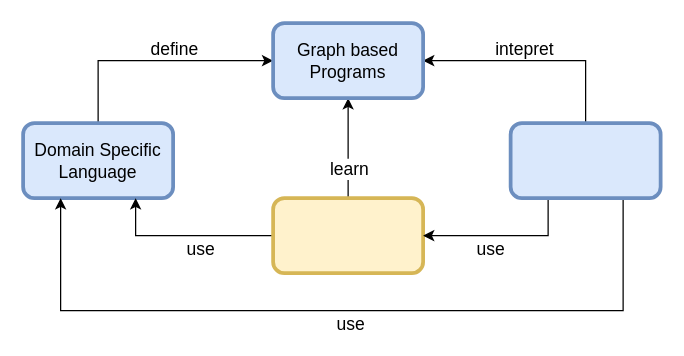
Some shapes in this 684 by 356 pixel diagram are drawn without their labels. Here are the shapes that lost their labels. From the top down, the centre of each, then its label:
the point at 585,160: Probabilistic Interpreter
the point at 347,235: Large Language Model
